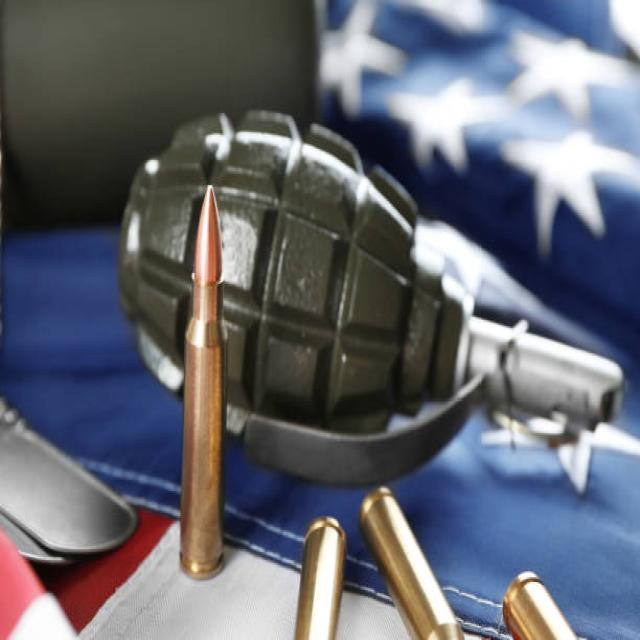grenade: (113, 103, 630, 494)
